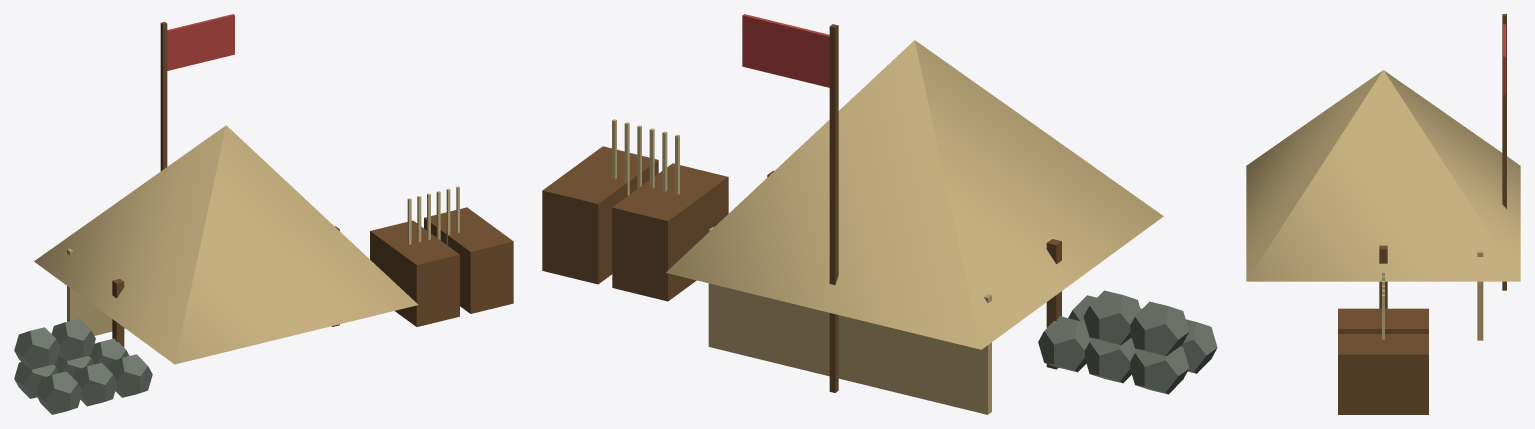
File: camp_1.glb
The picture shows the model from 3 angles, left to right: view 1: azimuth 30°, elevation 25°; view 2: azimuth 150°, elevation 25°; view 3: azimuth 270°, elevation 25°; orthographic projection. The views are drawn at different scales.
Visible parts, largest first — view 1: part_0, part_4, part_5, part_21, part_15, part_18, part_16, part_17, part_19, part_3, part_20, part_12 (+2 smaller); view 2: part_0, part_3, part_4, part_5, part_21, part_20, part_18, part_19, part_14, part_12, part_13, part_15 (+1 smaller); view 3: part_0, part_5, part_4, part_20, part_3, part_2, part_21.
Part boxes in pixels (left/top/right/bottom): part_0: left=34, top=125, right=418, bottom=364; part_4: left=370, top=220, right=459, bottom=326; part_5: left=424, top=207, right=513, bottom=313; part_21: left=167, top=14, right=234, bottom=70; part_15: left=36, top=371, right=81, bottom=414; part_18: left=14, top=327, right=59, bottom=369; part_16: left=73, top=363, right=116, bottom=406; part_17: left=108, top=354, right=152, bottom=397; part_19: left=51, top=318, right=95, bottom=360; part_3: left=67, top=248, right=124, bottom=335; part_20: left=160, top=22, right=167, bottom=171; part_12: left=14, top=362, right=59, bottom=398; part_0: left=666, top=40, right=1163, bottom=349; part_3: left=708, top=227, right=991, bottom=414; part_4: left=612, top=163, right=728, bottom=301; part_5: left=542, top=146, right=658, bottom=284; part_21: left=742, top=14, right=829, bottom=87; part_20: left=829, top=24, right=838, bottom=392; part_18: left=1130, top=301, right=1189, bottom=356; part_19: left=1083, top=290, right=1140, bottom=345; part_14: left=1038, top=316, right=1092, bottom=372; part_12: left=1130, top=346, right=1189, bottom=394; part_13: left=1085, top=338, right=1137, bottom=383; part_15: left=1180, top=319, right=1217, bottom=373; part_0: left=1246, top=70, right=1520, bottom=281; part_5: left=1338, top=334, right=1428, bottom=414; part_4: left=1338, top=308, right=1428, bottom=333; part_20: left=1502, top=14, right=1506, bottom=290; part_3: left=1477, top=251, right=1483, bottom=340; part_2: left=1379, top=245, right=1387, bottom=308; part_21: left=1503, top=24, right=1506, bottom=94.
Size of the model in its own units: 8.75 by 5 by 4.53.
